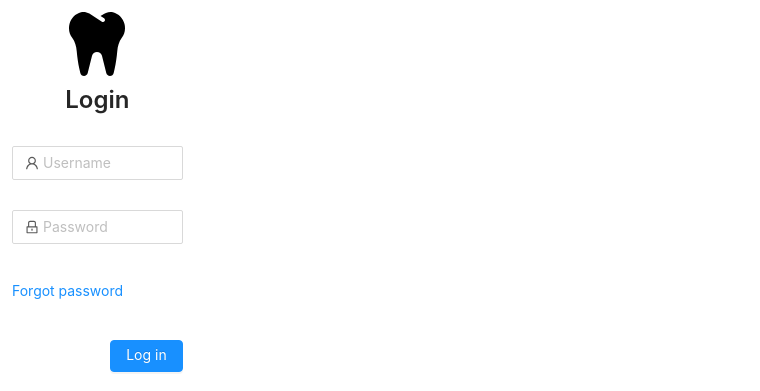
Test: Login › Use cannot log in with invalid credentials
In the field with id "login_username": (98, 163) [13, 147, 182, 179], type "m"
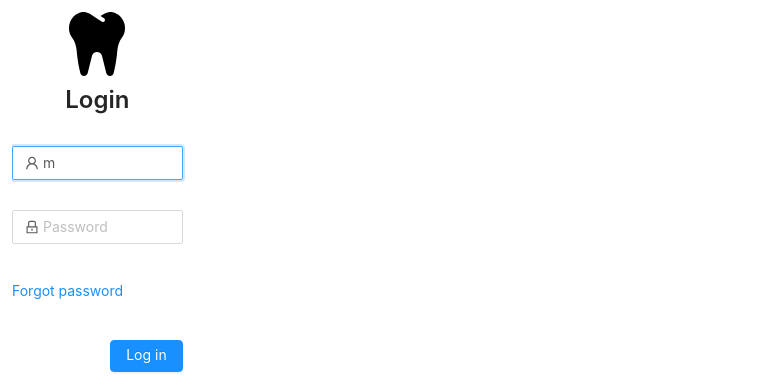
In the password field with id "login_password": (98, 227) [13, 211, 182, 243], type "piabcd123"
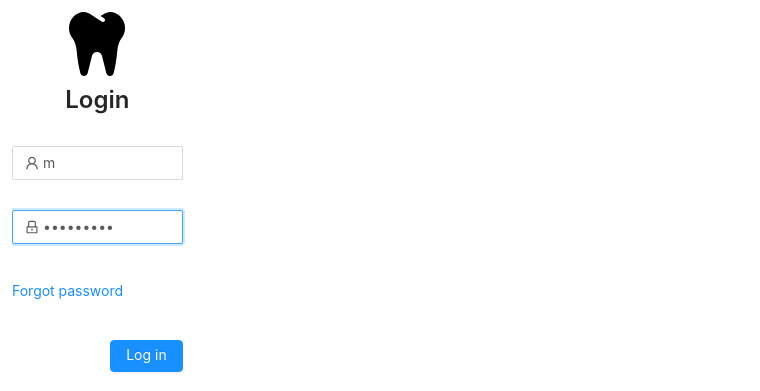
Click the submit button: (147, 356) [110, 340, 183, 372]
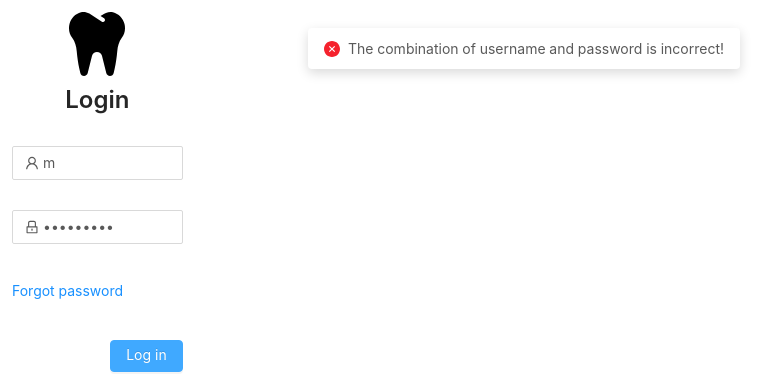
Expected: the text "The combination of username and password is incorrect!" is shown, [348, 40, 724, 57]
